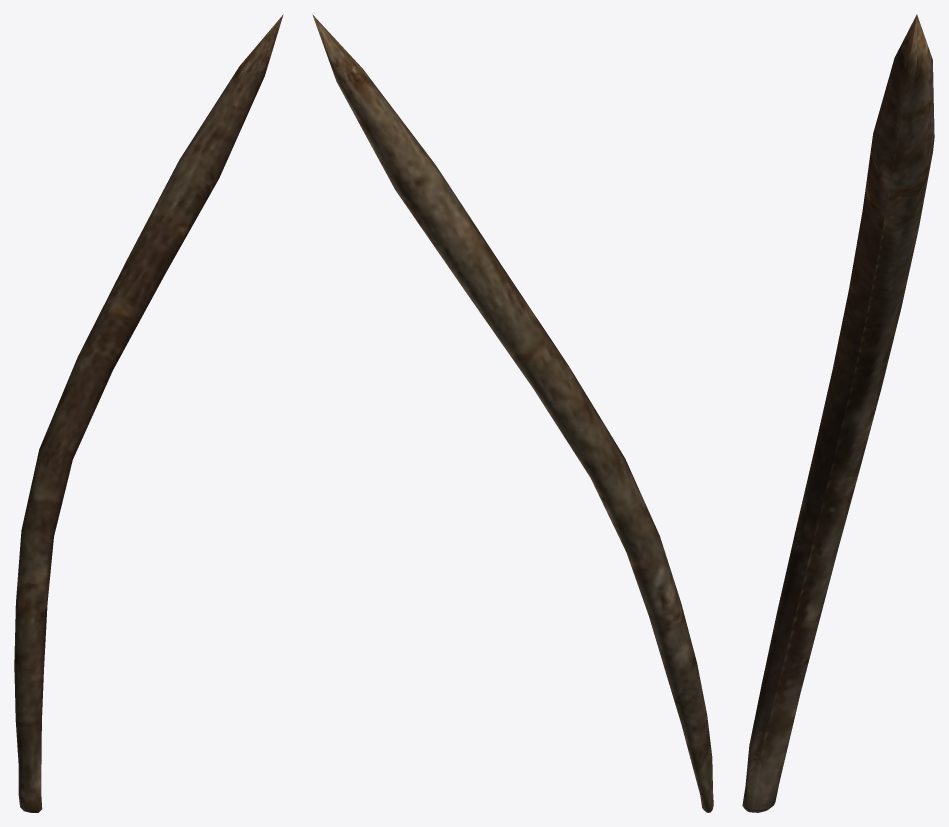
The picture shows the model from 3 angles, left to right: view 1: azimuth 30°, elevation 25°; view 2: azimuth 150°, elevation 25°; view 3: azimuth 270°, elevation 25°; orthographic projection. The views are drawn at different scales.
Parts seen in each view (by area): view 1: G-Line003.014; view 2: G-Line003.014; view 3: G-Line003.014.
Boxes of the visible parts, x1,y1,x2,y2 form: G-Line003.014: (14, 14, 283, 812); G-Line003.014: (312, 14, 713, 812); G-Line003.014: (742, 14, 934, 812).
Size of the model in its own units: 0.5912 by 1.24 by 0.2115.
1 material, 1 textured.
